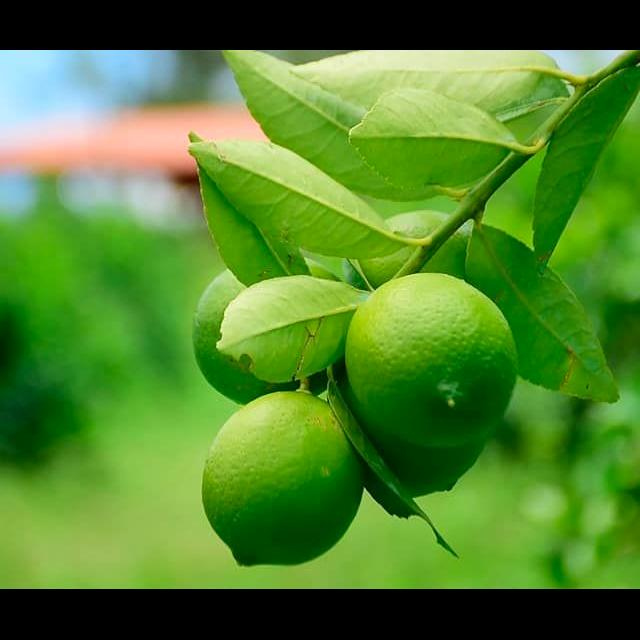lime: (348, 274, 519, 448), (202, 394, 363, 570), (194, 272, 366, 406)
